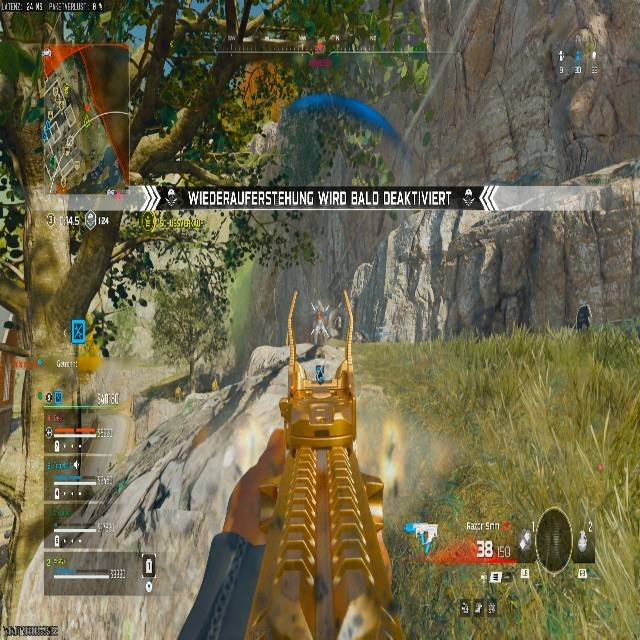player: (576, 303, 589, 331), (315, 362, 325, 383)
